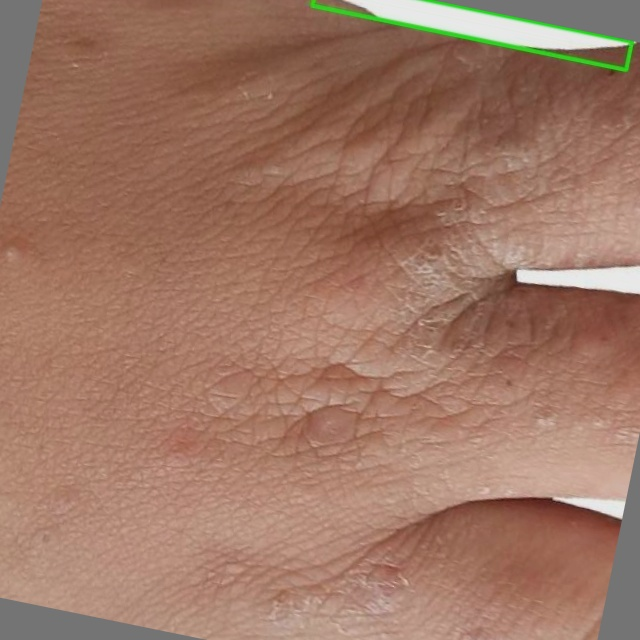Scabies: (311, 0, 630, 69)
